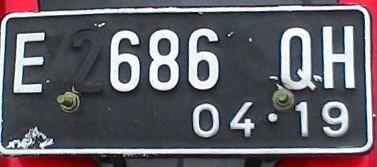clone-license-plate: (1, 9, 376, 152)
